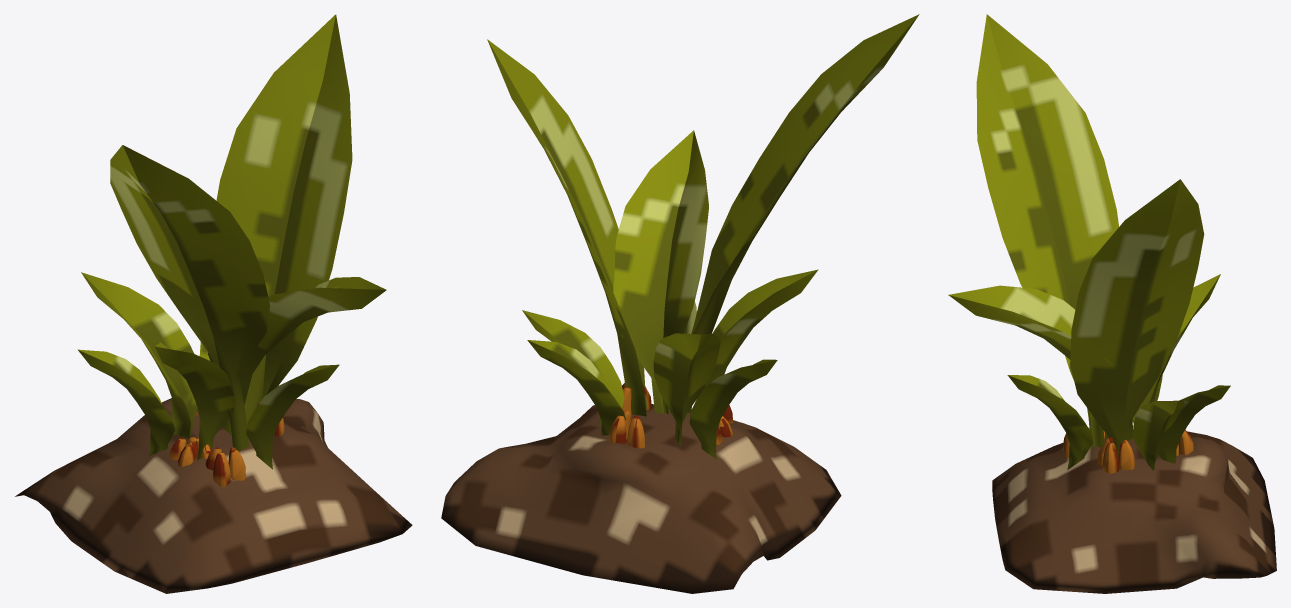
The model's file is turmericStage2.fbx.
The picture shows the model from 3 angles, left to right: view 1: azimuth 30°, elevation 25°; view 2: azimuth 150°, elevation 25°; view 3: azimuth 270°, elevation 25°; orthographic projection. The views are drawn at different scales.
Visible parts, largest first — view 1: pPlane23; view 2: pPlane23; view 3: pPlane23.
Boxes of the visible parts, x1,y1,x2,y2 form: pPlane23: [15, 14, 412, 593]; pPlane23: [441, 14, 919, 593]; pPlane23: [948, 14, 1276, 593].
Bounding box in the file's own units: 17.59 × 24.78 × 16.9.
Materials: 1 (1 with a texture image).
